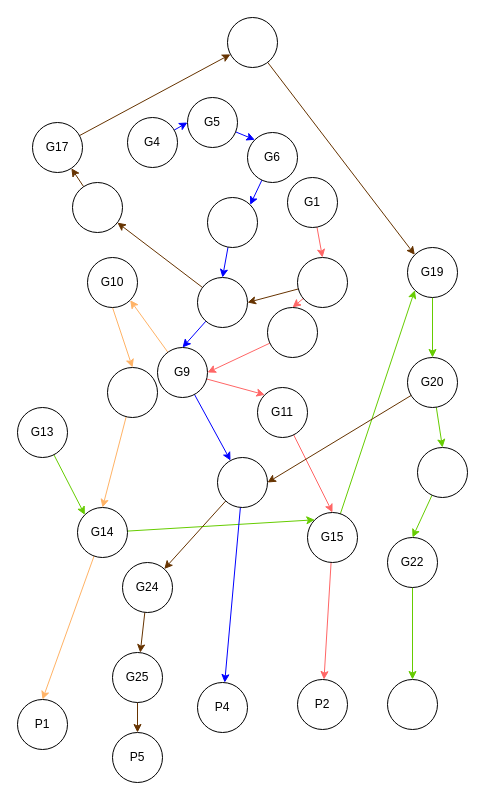
Image size: 485x800. Some labels were removed from this diagram. The centre of each missing label's shape, as x and y in pixels:
"G12" goes at point 132,392.
"G16" goes at point 97,207.
"G18" goes at point 252,42.
"G2" goes at point 322,282.
"G21" goes at point 442,472.
"G23" goes at point 242,482.
"G3" goes at point 292,332.
"G7" goes at point 232,222.
"G8" goes at point 222,302.
"P3" goes at point 412,704.
